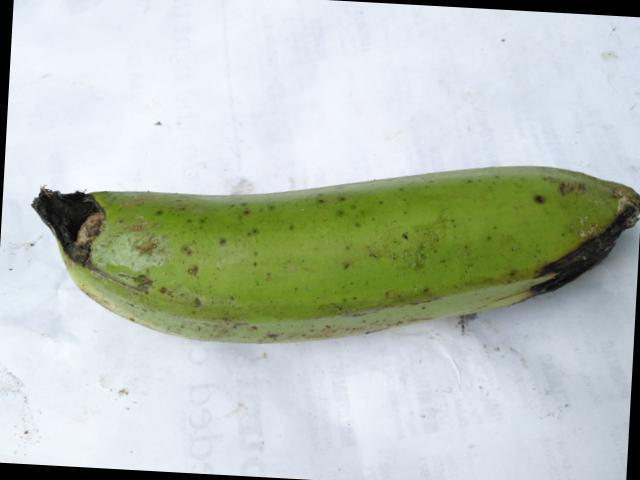unripe: (100, 138, 526, 355)
